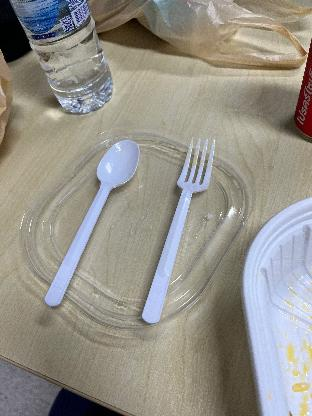Others: (41, 132, 141, 310), (134, 136, 220, 326)
Plastic Bottle: (12, 0, 114, 114)
